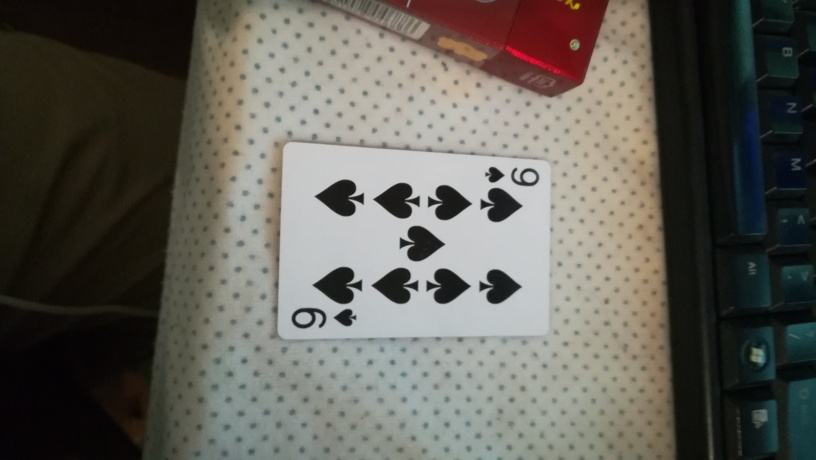ht 9: (275, 140, 552, 342)
